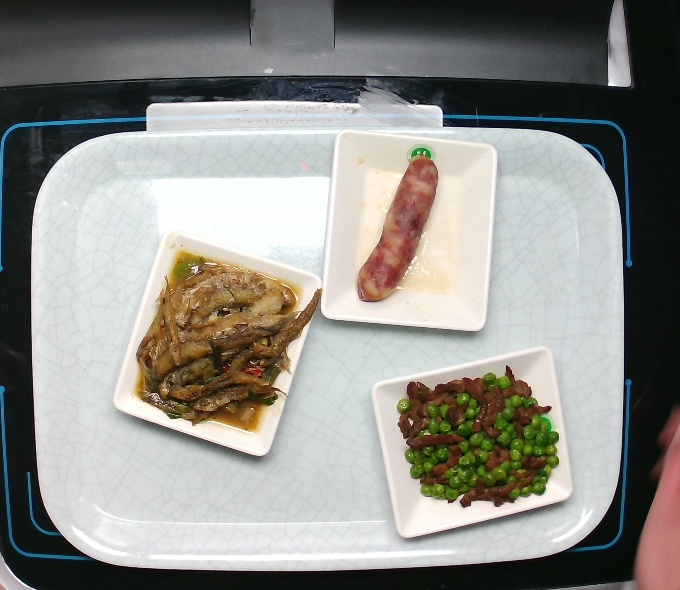wcq-CanDouNiuRou: (394, 361, 567, 513)
wcq-XiangChang: (356, 151, 443, 306)
wcq-XiaoJiYu: (131, 251, 324, 434)
